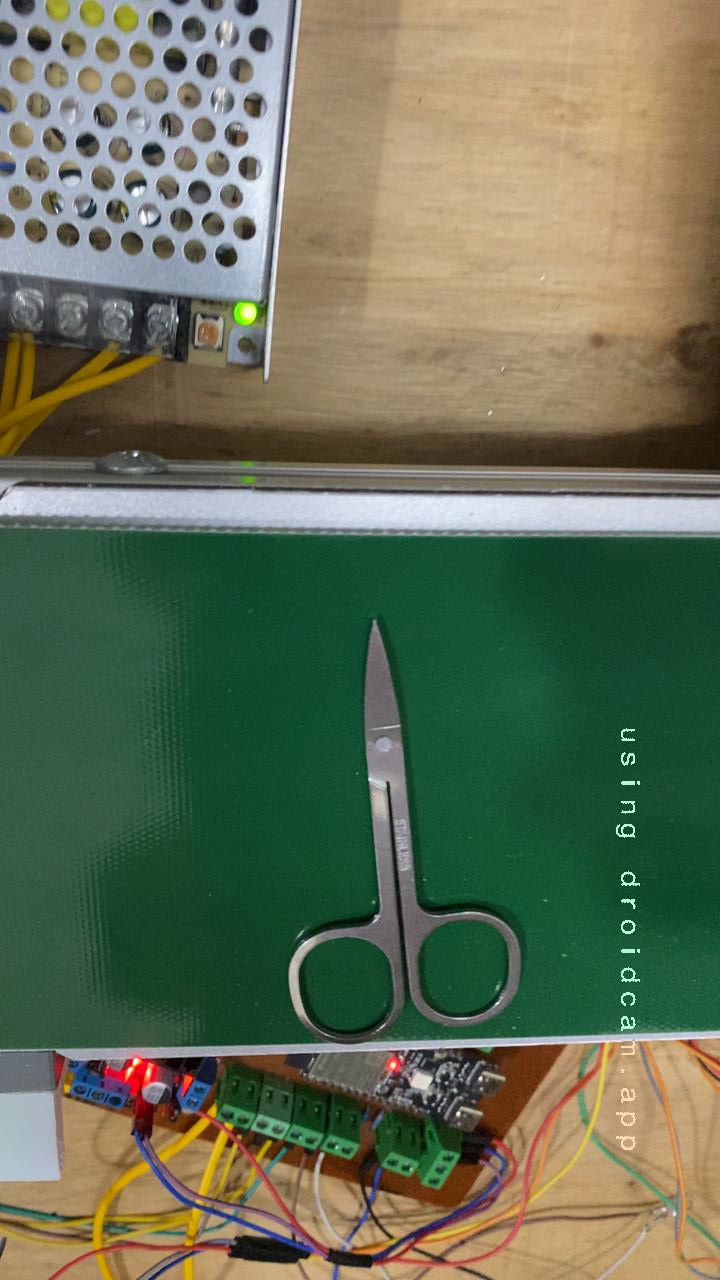scissor: (238, 597, 548, 1062)
